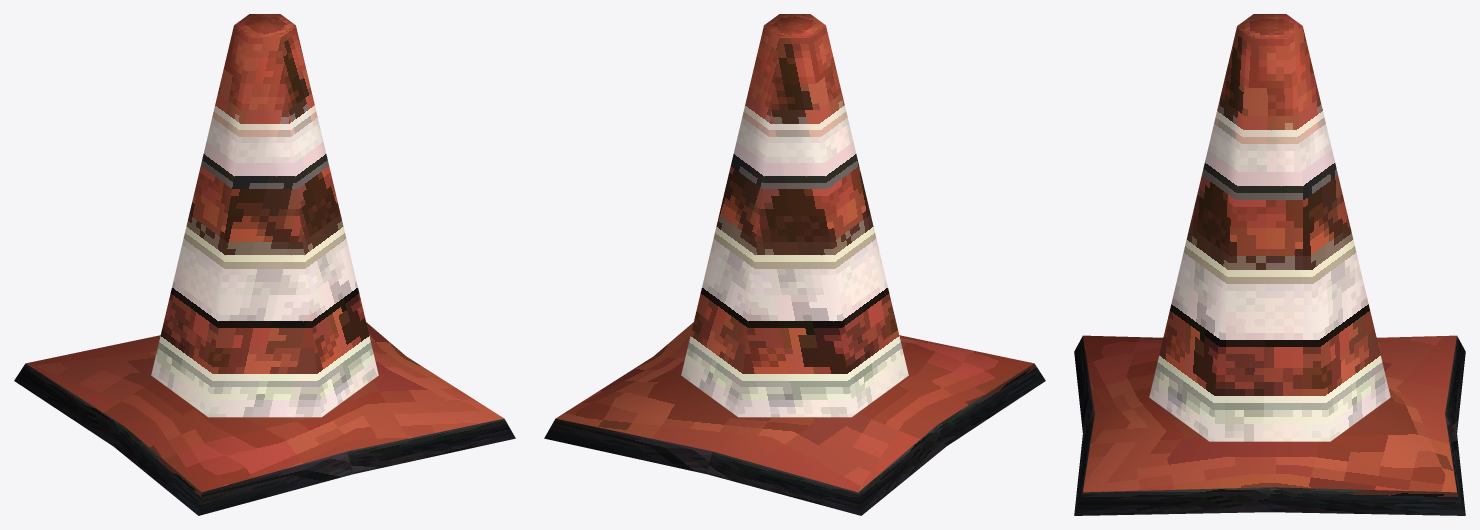
File: prop_traffic_cone_square.glb
3 renders of one model, left to right at view 1: azimuth 30°, elevation 25°; view 2: azimuth 150°, elevation 25°; view 3: azimuth 270°, elevation 25°, orthographic. The views are drawn at different scales.
Visible parts, largest first — view 1: Traffic_Cone_ver_02; view 2: Traffic_Cone_ver_02; view 3: Traffic_Cone_ver_02.
Part boxes in pixels (bbox=[...]): Traffic_Cone_ver_02: bbox=[14, 14, 515, 515]; Traffic_Cone_ver_02: bbox=[544, 14, 1045, 515]; Traffic_Cone_ver_02: bbox=[1074, 14, 1465, 515].
Bounding box in the file's own units: 0.4416 × 0.5111 × 0.4448.
1 material, 1 textured.
